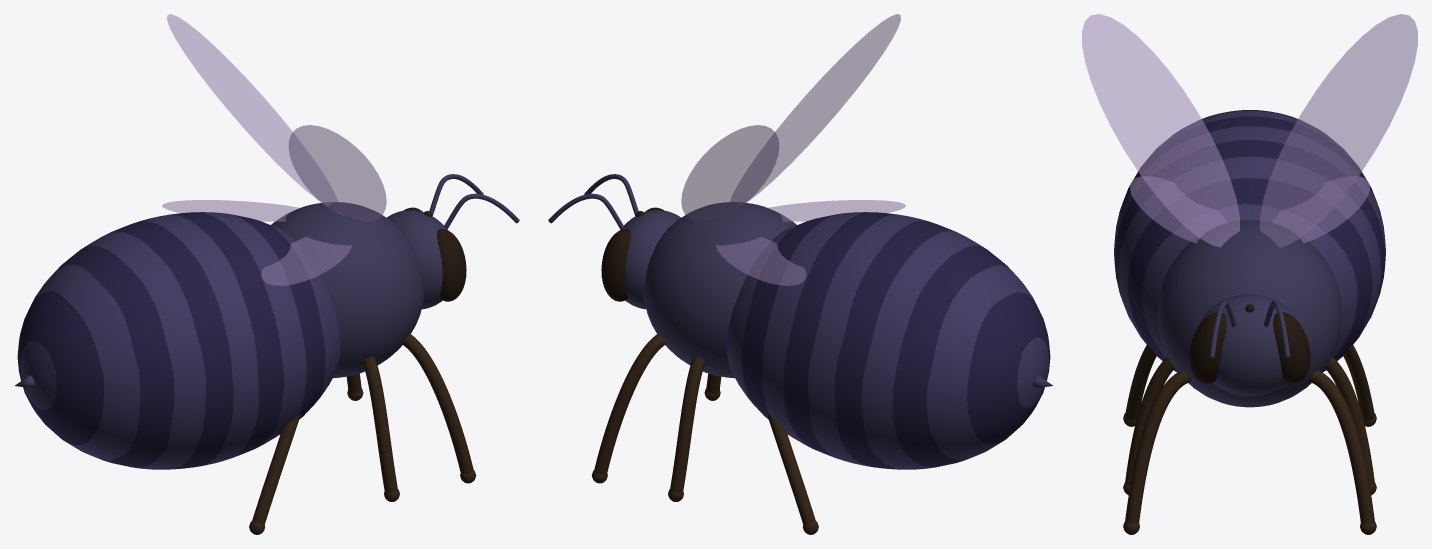
Rendered from bee-hero-xylocopa-low.glb.
3 renders of one model, left to right at view 1: azimuth 30°, elevation 25°; view 2: azimuth 150°, elevation 25°; view 3: azimuth 270°, elevation 25°, orthographic. The views are drawn at different scales.
Visible parts, largest first — view 1: abdomen, thorax, foreWingL, foreWingR, head, hindWingR, foreLegR, midLegR, hindWingL, compoundEyeR, hindLegR; view 2: abdomen, thorax, foreWingR, foreWingL, head, hindWingL, foreLegL, midLegL, hindWingR, compoundEyeL, hindLegL; view 3: abdomen, thorax, foreWingL, foreWingR, head, hindWingL, hindWingR, foreLegL, foreLegR, compoundEyeL, compoundEyeR, midLegL (+5 smaller).
Boxes of the visible parts, x1,y1,x2,y2 form: abdomen: (17,212,341,469); thorax: (271,202,424,378); foreWingL: (167,14,337,206); foreWingR: (288,125,386,222); head: (387,210,447,309); hindWingR: (261,237,351,285); foreLegR: (402,334,473,474); midLegR: (363,356,397,492); hindWingL: (162,200,299,221); compoundEyeR: (437,229,466,301); hindLegR: (252,414,300,525); abdomen: (726,212,1050,469); thorax: (643,202,796,378); foreWingR: (730,14,900,206); foreWingL: (681,125,779,222); head: (620,210,680,309); hindWingL: (716,237,806,285); foreLegL: (594,334,665,474); midLegL: (670,356,704,492); hindWingR: (768,200,905,221); compoundEyeL: (601,229,630,301); hindLegL: (767,414,815,525); abdomen: (1114,110,1385,372); thorax: (1157,220,1342,407); foreWingL: (1260,14,1417,247); foreWingR: (1082,14,1239,247); head: (1198,294,1301,395); hindWingL: (1272,176,1369,243); hindWingR: (1130,176,1227,243); foreLegL: (1308,370,1374,524); foreLegR: (1125,370,1191,524); compoundEyeL: (1273,312,1310,383); compoundEyeR: (1189,312,1226,383); midLegL: (1325,356,1374,485).
Bounding box in the file's own units: 2.39 × 1.93 × 1.36.
Materials: 5 (1 with a texture image).
